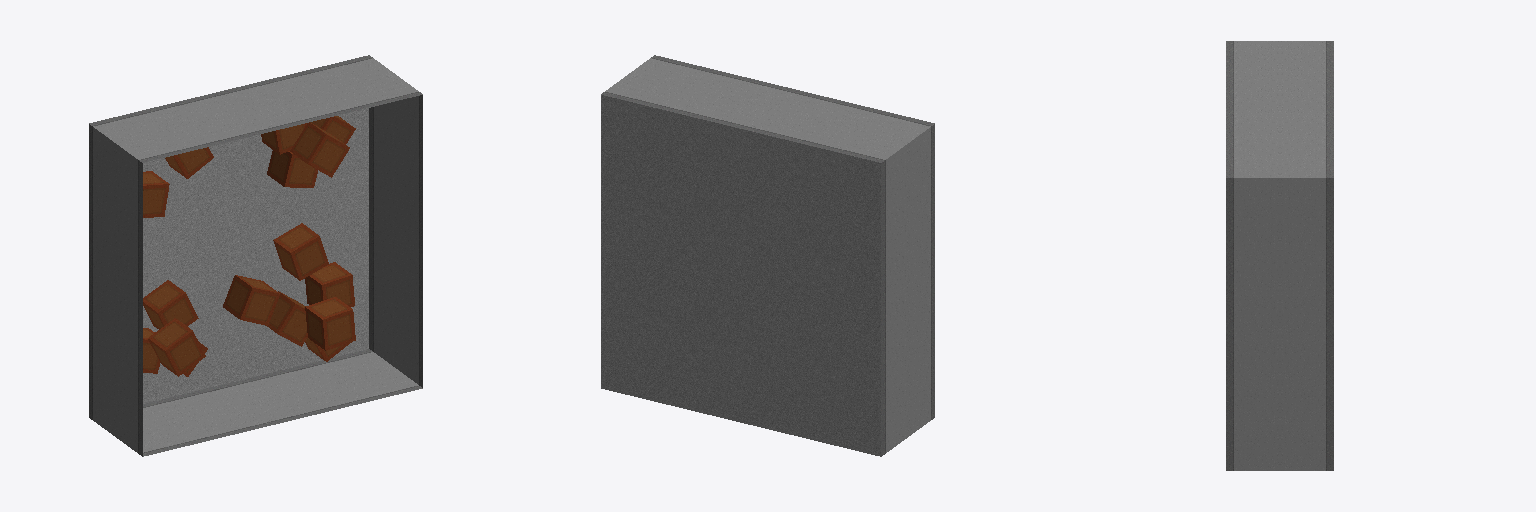
The picture shows the model from 3 angles: view 1: azimuth 30°, elevation 25°; view 2: azimuth 150°, elevation 25°; view 3: azimuth 270°, elevation 25°; orthographic projection.
Visible parts, largest first — view 1: Room_Plane, Cube.010, Cube.014, Cube.006, Cube.015, Cube.003, Cube.009, Cube.013, Cube.012, Cube.002, Cube.005, Cube.004 (+3 smaller); view 2: Room_Plane; view 3: Room_Plane.
Part boxes in pixels (left/top/right/bottom): Room_Plane: left=89, top=55, right=422, bottom=456; Cube.010: left=305, top=297, right=355, bottom=350; Cube.014: left=273, top=223, right=328, bottom=280; Cube.006: left=148, top=318, right=205, bottom=376; Cube.015: left=223, top=275, right=279, bottom=325; Cube.003: left=290, top=122, right=349, bottom=177; Cube.009: left=143, top=280, right=198, bottom=329; Cube.013: left=305, top=262, right=354, bottom=306; Cube.012: left=267, top=291, right=307, bottom=346; Cube.002: left=267, top=150, right=317, bottom=187; Cube.005: left=143, top=171, right=169, bottom=217; Cube.004: left=165, top=147, right=213, bottom=178; Room_Plane: left=601, top=55, right=934, bottom=456; Room_Plane: left=1226, top=41, right=1333, bottom=470.
Size of the model in its own units: 6 by 6 by 2.
Materials: 18 (3 with a texture image).